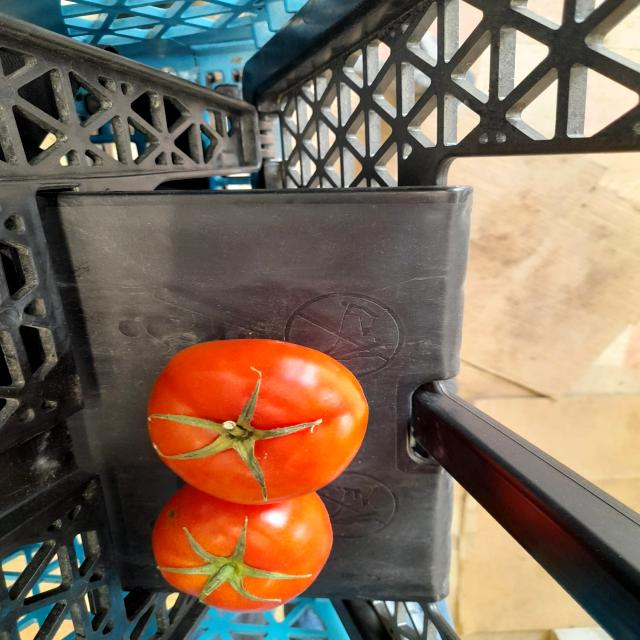tomato: (128, 321, 378, 506), (125, 479, 354, 616)
